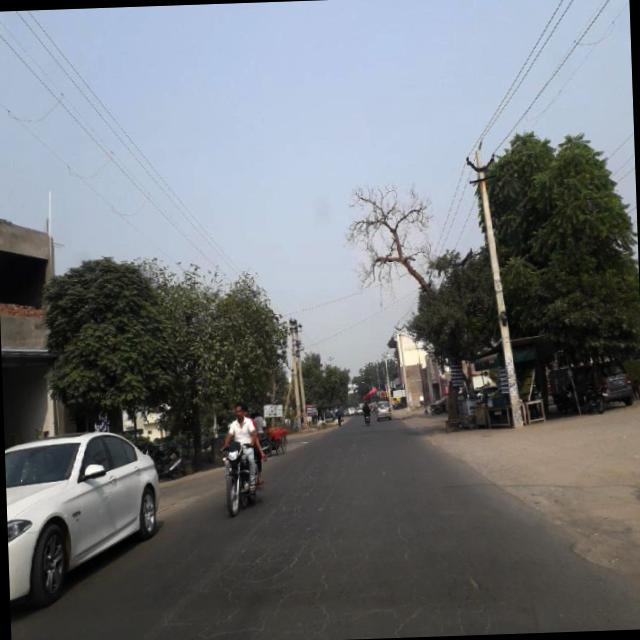crack: (155, 564, 495, 634), (257, 474, 337, 572)
